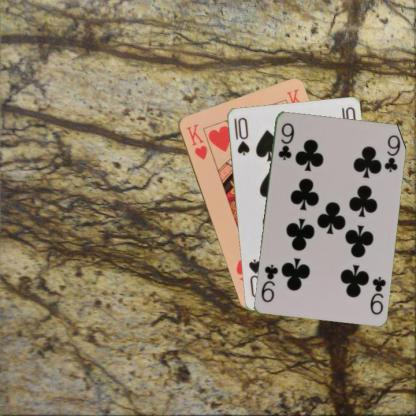10s: (231, 115, 251, 156)
9c: (275, 120, 295, 161), (367, 273, 386, 316)
Kh: (183, 121, 209, 161)
